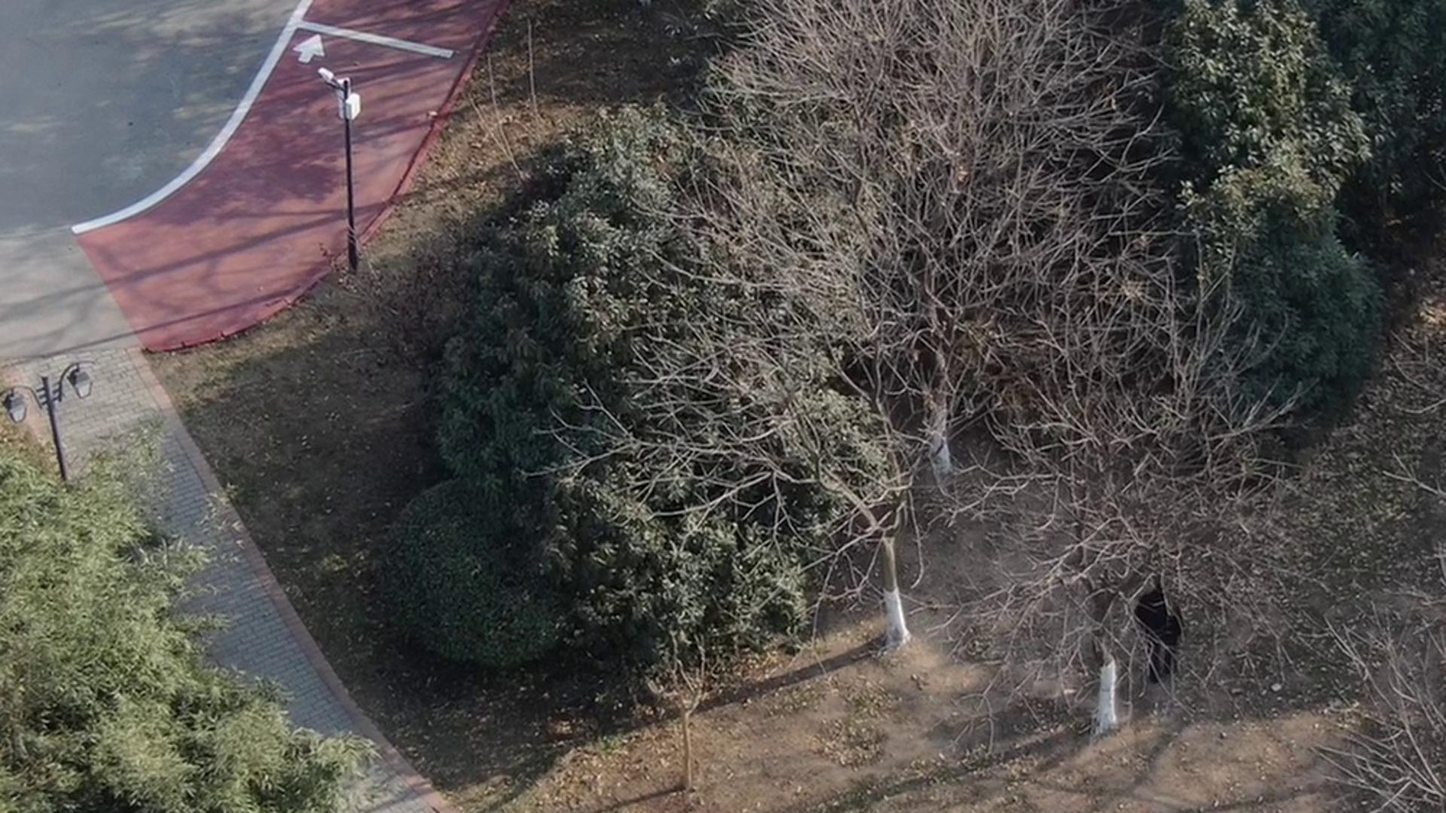human: (1118, 565, 1168, 681)
